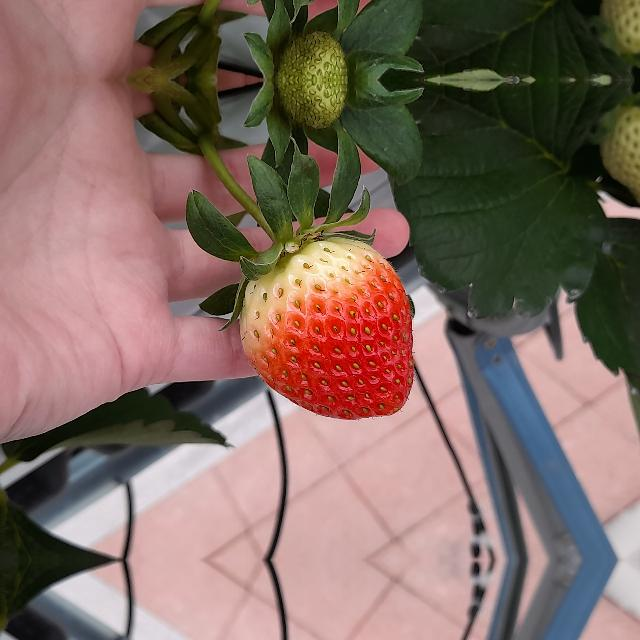Health_25: (271, 80, 347, 134), (271, 26, 347, 80)
Health_75: (239, 236, 413, 419)
